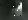person: (13, 3, 22, 17)
